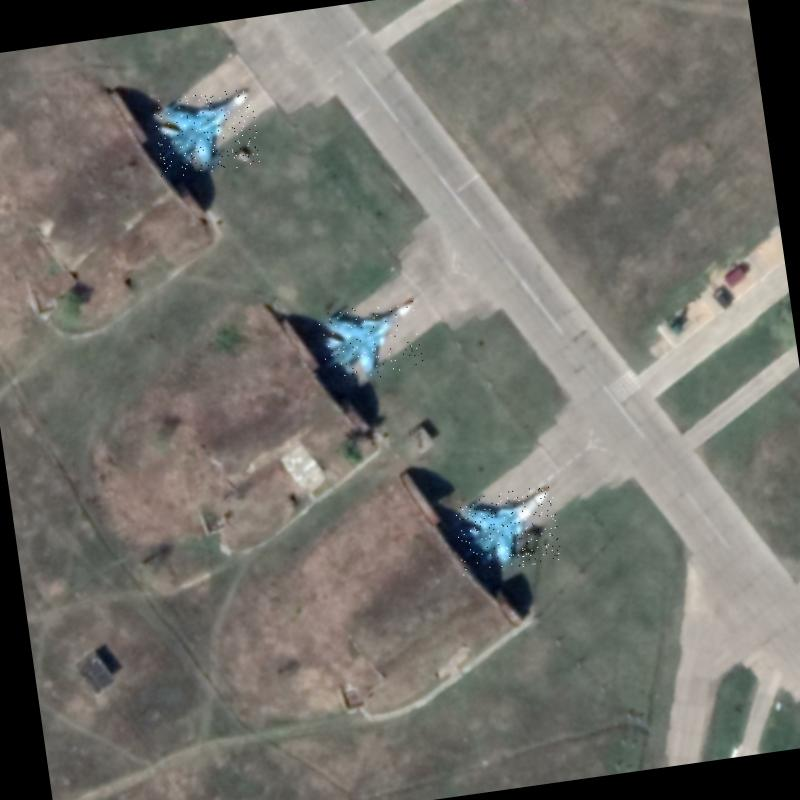A19: (150, 87, 261, 178), (452, 485, 562, 575), (316, 299, 424, 385)
